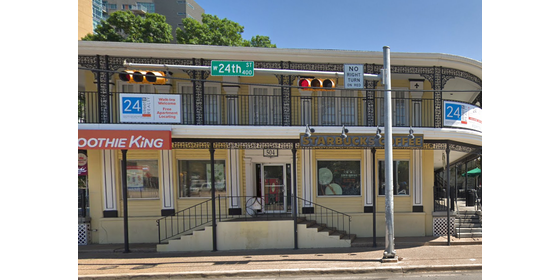no right turn on red sign: (342, 64, 363, 90)
street name sign: (210, 59, 256, 77)
